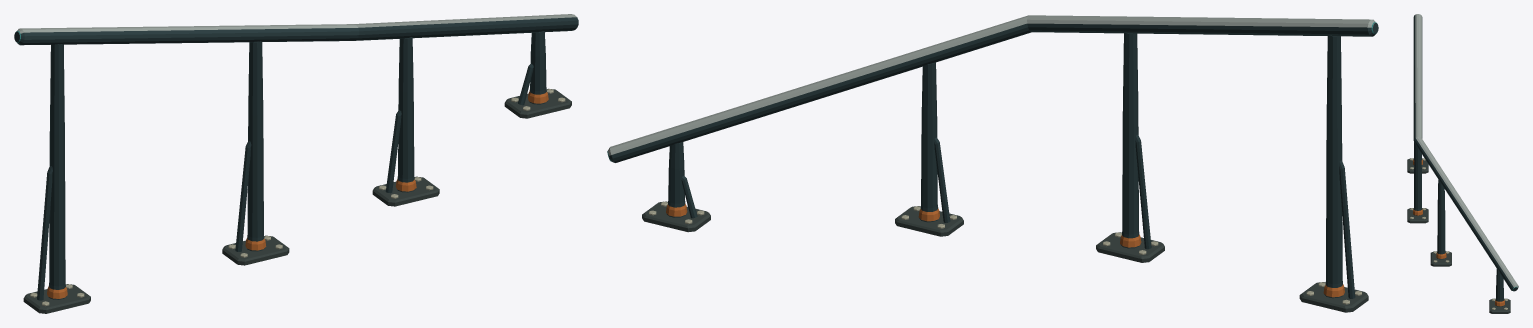
File: wsc-plan-009-grind-rail-kink.glb
The picture shows the model from 3 angles, left to right: view 1: azimuth 30°, elevation 25°; view 2: azimuth 150°, elevation 25°; view 3: azimuth 270°, elevation 25°; orthographic projection. The views are drawn at different scales.
Parts seen in each view (by area): view 1: Mounts_and_supports, Continuous_grind_surface; view 2: Mounts_and_supports, Continuous_grind_surface; view 3: Continuous_grind_surface, Mounts_and_supports.
Boxes of the visible parts, left/top/right/bottom form: Mounts_and_supports: left=23, top=31, right=571, bottom=313; Continuous_grind_surface: left=14, top=14, right=578, bottom=45; Mounts_and_supports: left=642, top=32, right=1368, bottom=312; Continuous_grind_surface: left=607, top=15, right=1378, bottom=162; Continuous_grind_surface: left=1413, top=14, right=1518, bottom=291; Mounts_and_supports: left=1407, top=142, right=1510, bottom=313.
Size of the model in its own units: 9.35 by 3.83 by 2.68.
